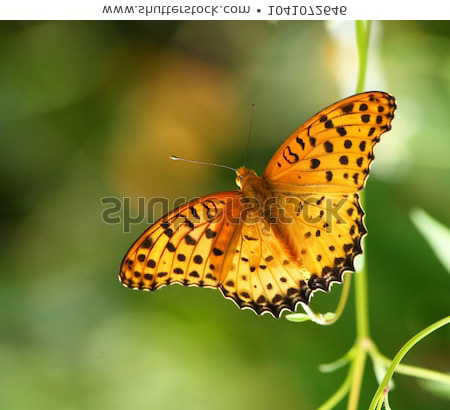Argyreus hyperbius: (114, 88, 399, 318)
butterfly: (116, 90, 401, 320)
